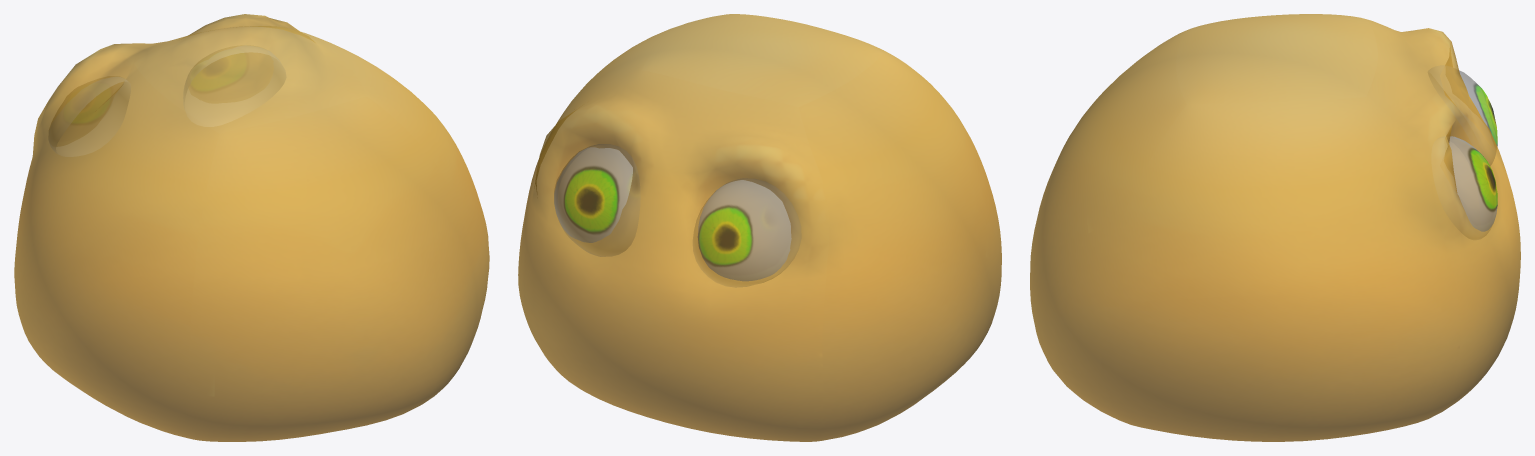
File: Character.gltf
3 views of the same model, side by side, from view 1: azimuth 30°, elevation 25°; view 2: azimuth 150°, elevation 25°; view 3: azimuth 270°, elevation 25° (orthographic). The views are drawn at different scales.
Visible parts, largest first — view 1: Character; view 2: Character; view 3: Character.
Boxes of the visible parts, box(x1,y1,x2,y2) form: Character: box(14, 14, 489, 441); Character: box(518, 14, 1001, 441); Character: box(1030, 14, 1520, 441).
Bounding box in the file's own units: 1.81 × 1.37 × 1.78.
2 materials, 2 textured.
